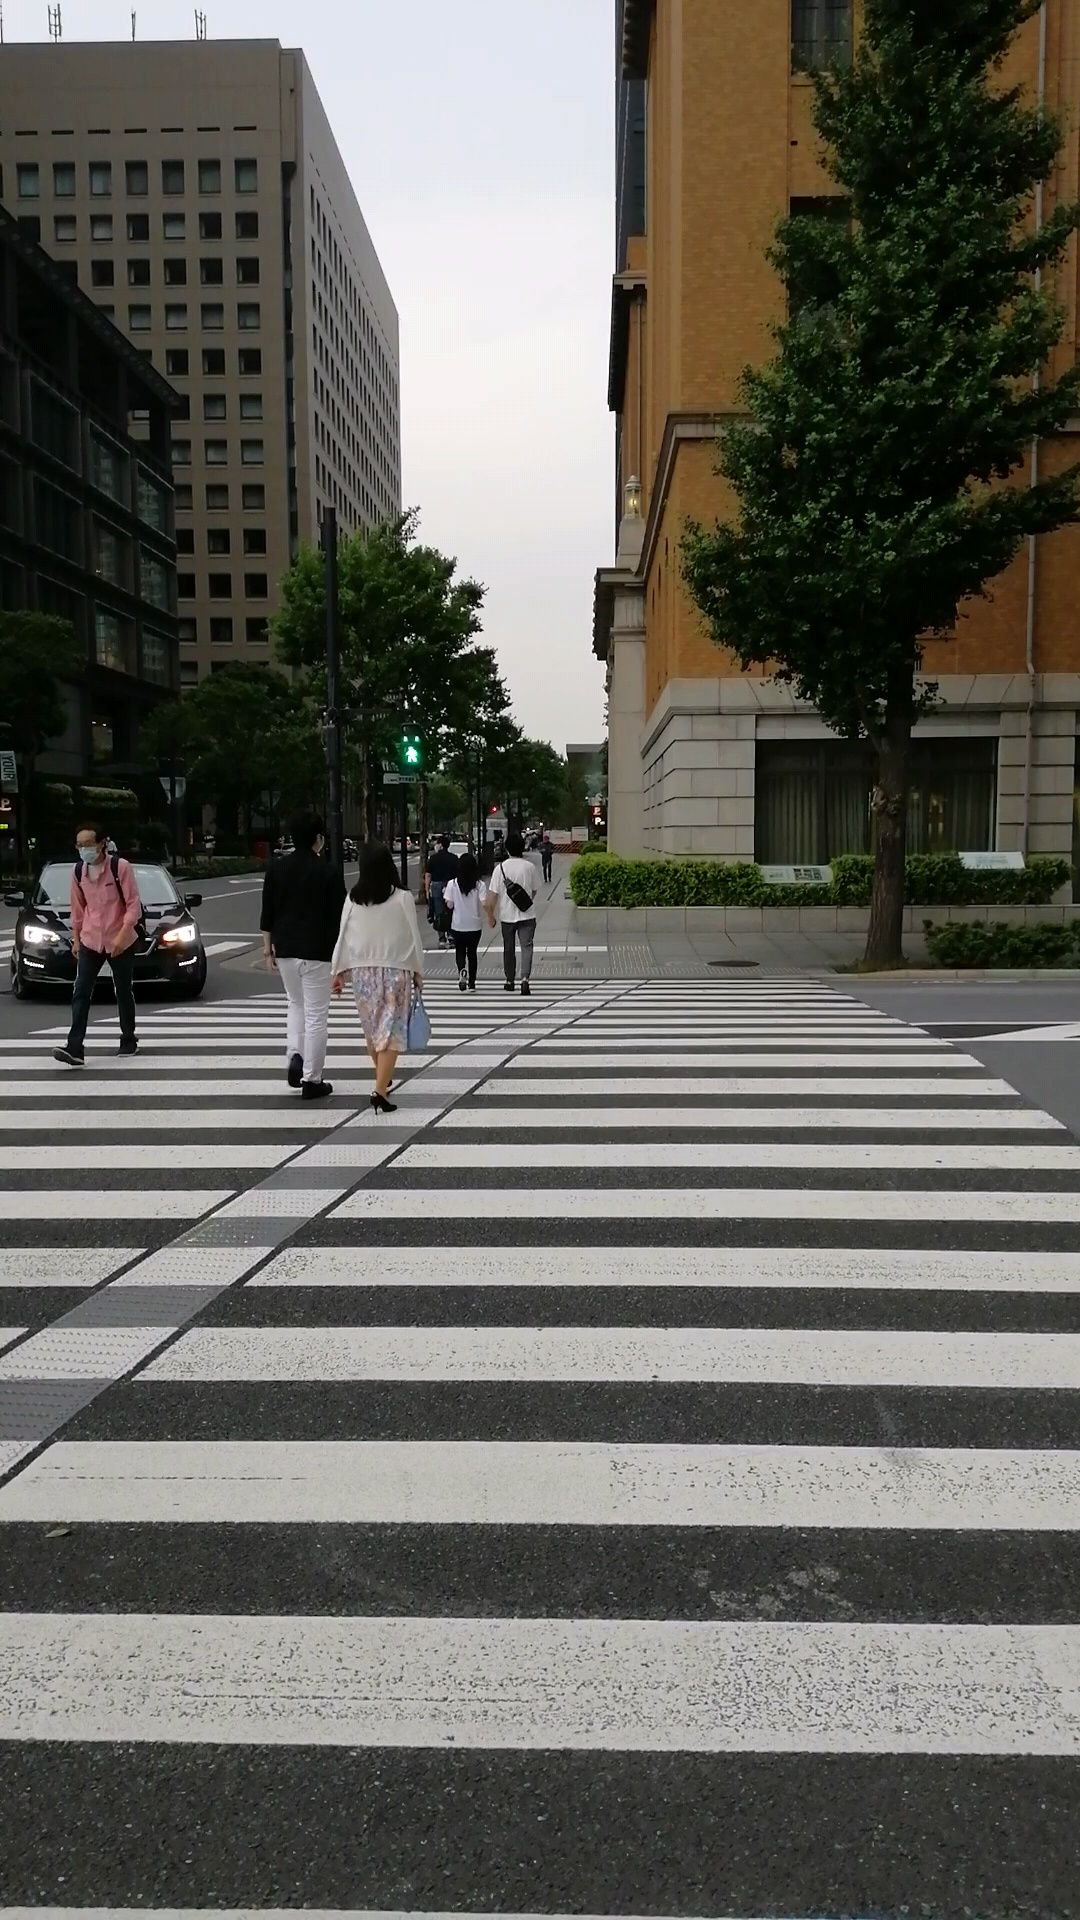green: (400, 721, 425, 767)
